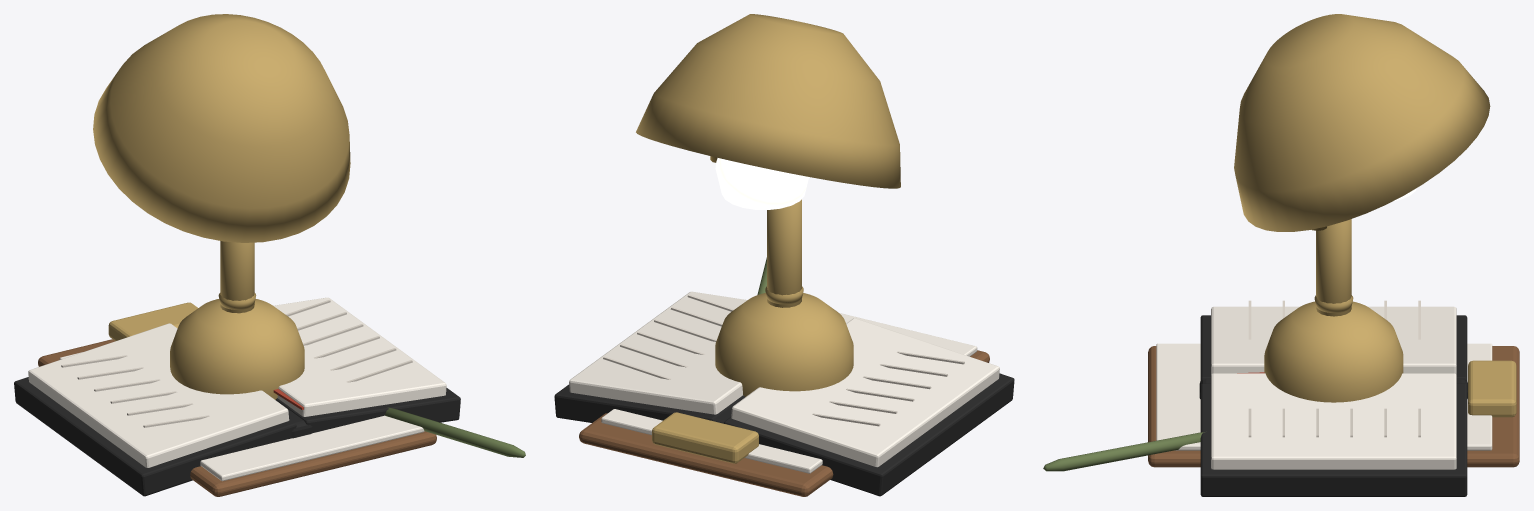
File: k2-counter-props.glb
3 renders of one model, left to right at view 1: azimuth 30°, elevation 25°; view 2: azimuth 150°, elevation 25°; view 3: azimuth 270°, elevation 25°, orthographic. The views are drawn at different scales.
Parts seen in each view (by area): view 1: Lamp_Shade, Ledger_Page_L, Ledger_Page_R, Bell_Dome, Ledger_Board_L, Pad_Paper, Pad_Board, Ledger_Board_R, Lamp_Stem, Pad_Pencil, Pad_Clip; view 2: Lamp_Shade, Ledger_Page_L, Ledger_Page_R, Bell_Dome, Ledger_Board_L, Pad_Board, Pad_Clip, Lamp_Bulb, Lamp_Stem, Pad_Paper, Ledger_Board_R; view 3: Lamp_Shade, Ledger_Page_R, Bell_Dome, Ledger_Board_R, Ledger_Page_L, Pad_Paper, Pad_Board, Lamp_Stem, Pad_Clip, Pad_Pencil, Ledger_Board_L.
Boxes of the visible parts, <box> form: Lamp_Shade: <box>93,14,350,242</box>; Ledger_Page_L: <box>28,323,289,467</box>; Ledger_Page_R: <box>273,297,446,416</box>; Bell_Dome: <box>170,299,304,399</box>; Ledger_Board_L: <box>14,377,296,496</box>; Pad_Paper: <box>59,352,424,481</box>; Pad_Board: <box>38,339,436,496</box>; Ledger_Board_R: <box>276,388,460,432</box>; Lamp_Stem: <box>220,241,254,313</box>; Pad_Pencil: <box>385,407,525,457</box>; Pad_Clip: <box>108,302,197,341</box>; Lamp_Shade: <box>636,14,900,188</box>; Ledger_Page_L: <box>731,318,999,467</box>; Ledger_Page_R: <box>569,291,747,414</box>; Bell_Dome: <box>715,293,853,396</box>; Ledger_Board_L: <box>723,373,1014,496</box>; Pad_Board: <box>579,350,989,496</box>; Pad_Clip: <box>652,412,758,463</box>; Lamp_Bulb: <box>715,158,808,209</box>; Lamp_Stem: <box>767,199,801,307</box>; Pad_Paper: <box>601,313,977,473</box>; Ledger_Board_R: <box>554,384,744,422</box>; Lamp_Shade: <box>1234,14,1490,231</box>; Ledger_Page_R: <box>1211,373,1456,469</box>; Bell_Dome: <box>1264,301,1403,402</box>; Ledger_Board_R: <box>1200,383,1467,496</box>; Ledger_Page_L: <box>1211,306,1456,375</box>; Pad_Paper: <box>1156,343,1492,450</box>; Pad_Board: <box>1148,346,1519,467</box>; Lamp_Stem: <box>1316,219,1351,316</box>; Pad_Clip: <box>1468,360,1516,417</box>; Pad_Pencil: <box>1043,432,1204,471</box>; Ledger_Board_L: <box>1200,315,1467,381</box>.
Bounding box in the file's own units: 0.2357 × 0.2698 × 0.2949.
